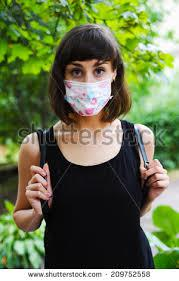OK: (70, 64, 116, 110)
